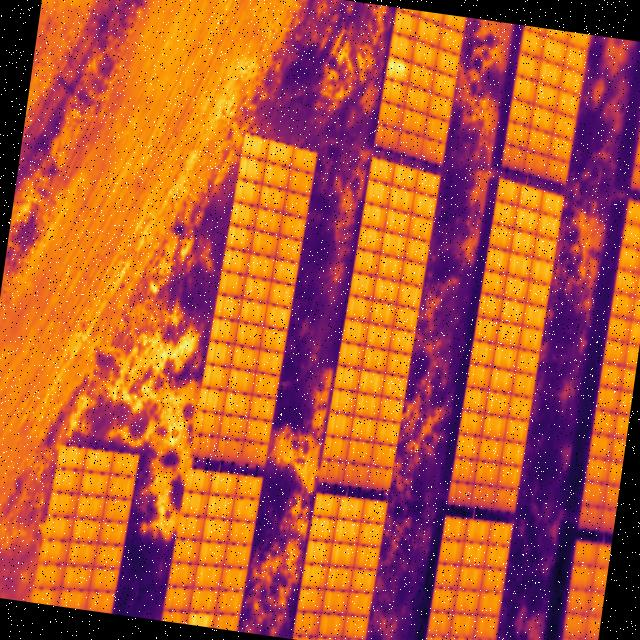Hotspot: (388, 57, 410, 80), (190, 614, 197, 626), (203, 614, 209, 627)
